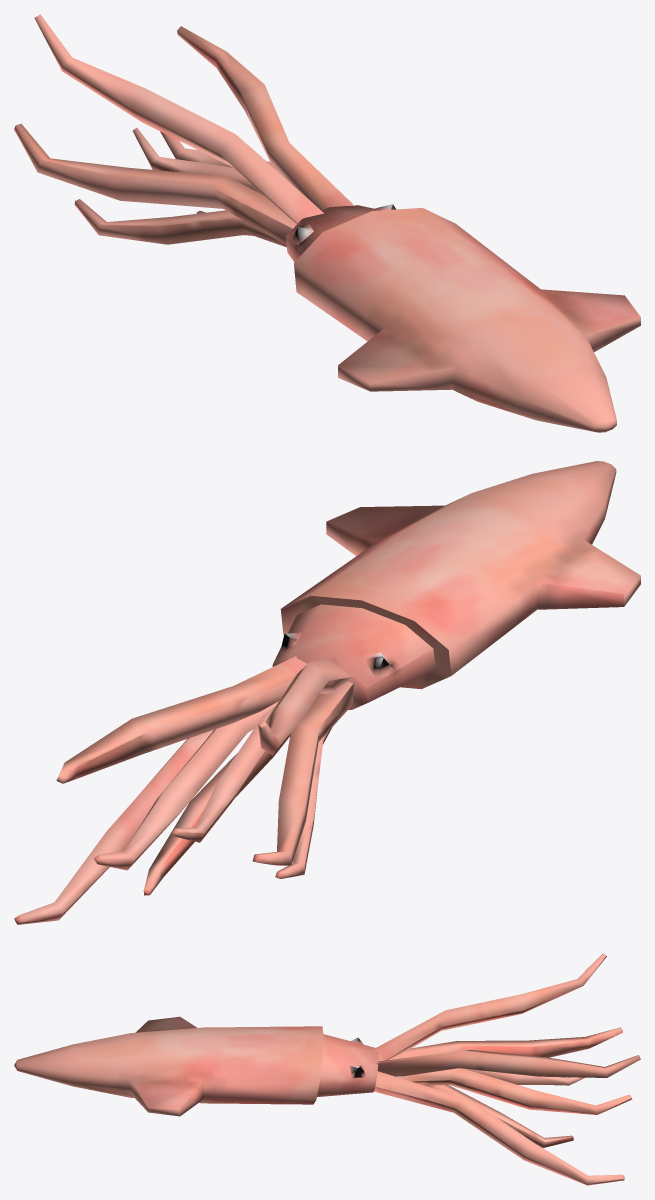
Rendered from squid.glb.
3 renders of one model, top to bottom at view 1: azimuth 30°, elevation 25°; view 2: azimuth 150°, elevation 25°; view 3: azimuth 270°, elevation 25°, orthographic. The views are drawn at different scales.
Parts seen in each view (by area): view 1: Cylinder; view 2: Cylinder; view 3: Cylinder.
Boxes of the visible parts, bbox=[...] form: Cylinder: bbox=[14, 14, 640, 432]; Cylinder: bbox=[14, 461, 640, 924]; Cylinder: bbox=[14, 953, 640, 1185].
Size of the model in its own units: 5.95 by 5.01 by 17.18.
1 material, 1 textured.
